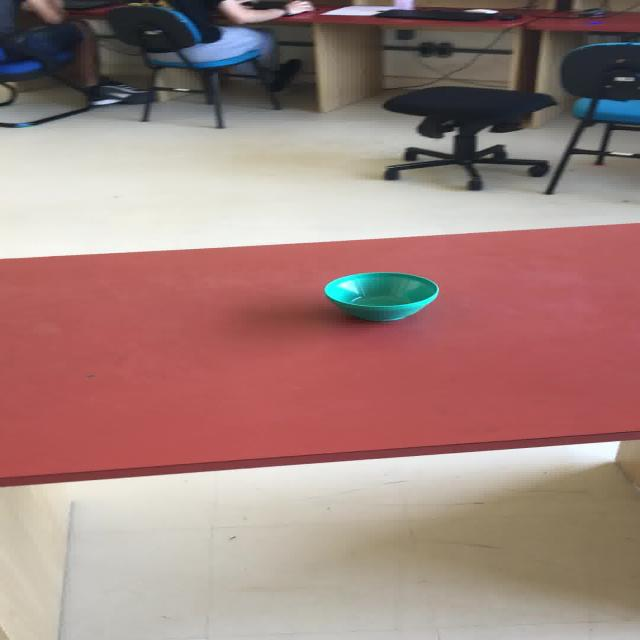bowl: (322, 271, 439, 321)
